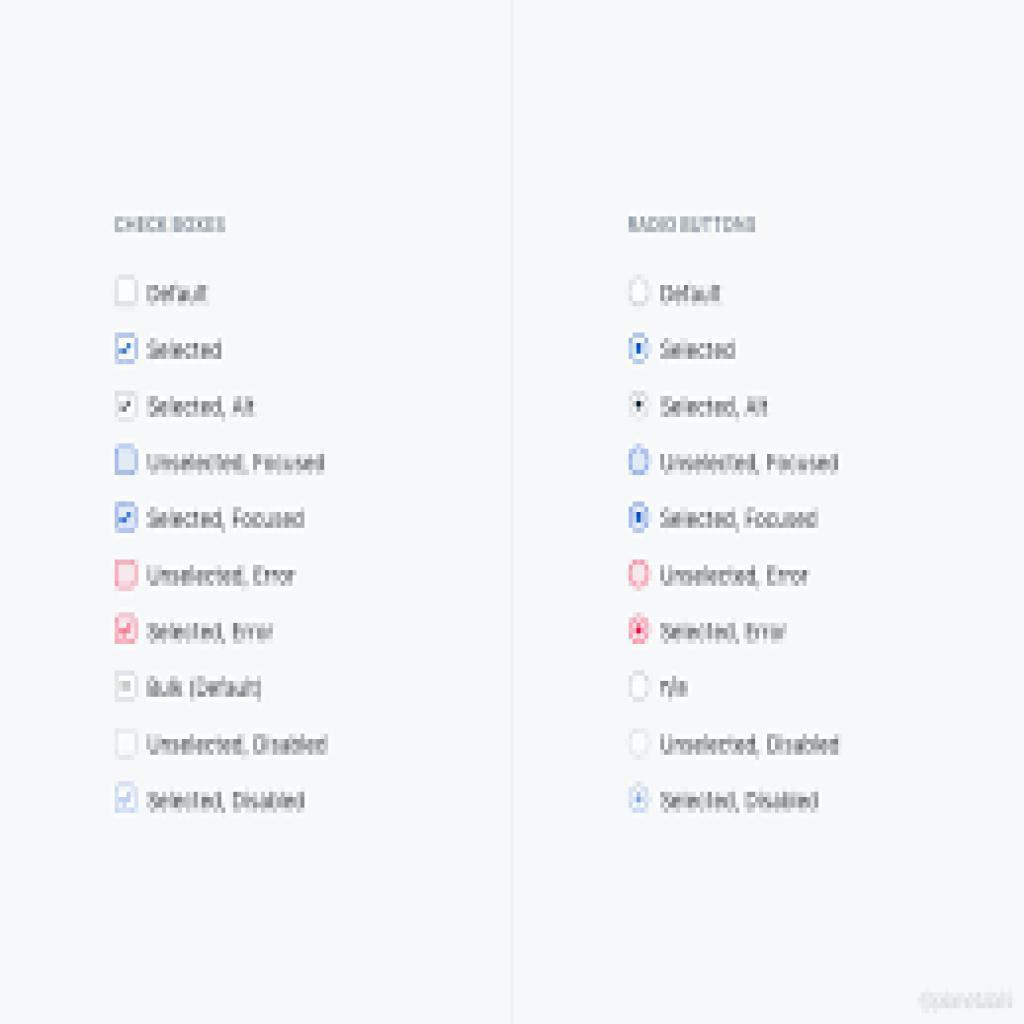checkbox: (114, 444, 141, 479), (114, 612, 142, 645), (115, 558, 141, 593), (114, 783, 141, 814), (115, 333, 140, 366), (116, 390, 141, 423), (114, 671, 141, 701), (115, 275, 140, 307), (115, 503, 141, 533), (115, 729, 139, 759)
radio: (623, 437, 656, 488), (623, 722, 658, 766), (623, 322, 654, 371), (625, 607, 656, 656), (623, 381, 654, 429), (626, 496, 654, 543), (625, 552, 657, 593), (627, 665, 654, 712), (626, 782, 659, 818), (626, 276, 655, 313)
